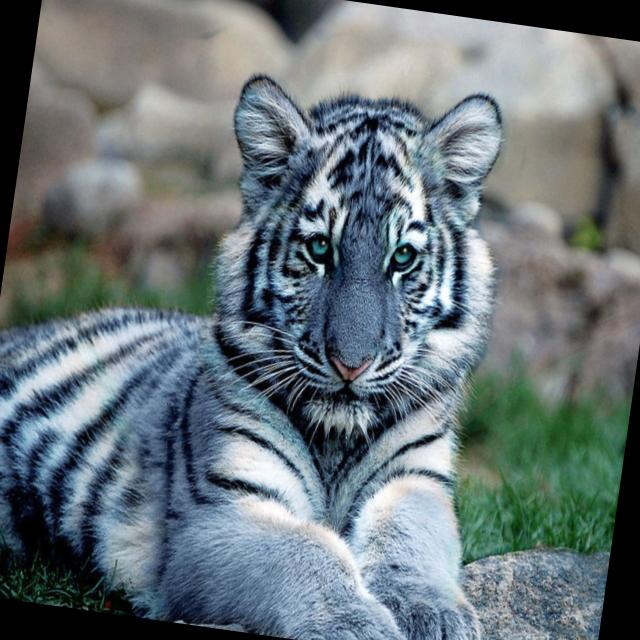tiger: (29, 2, 573, 640)
